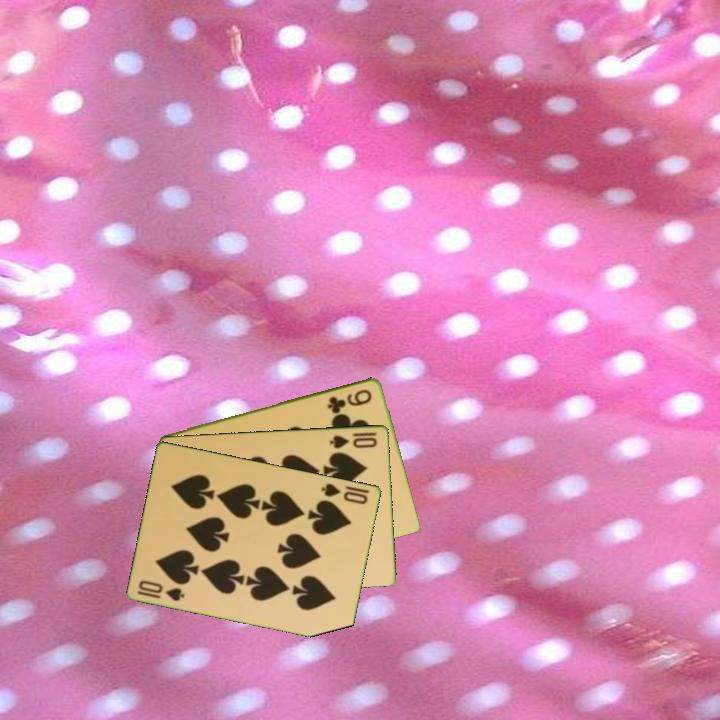10s: (134, 576, 188, 604), (318, 479, 371, 507), (327, 428, 380, 451)
9c: (324, 385, 375, 414)
